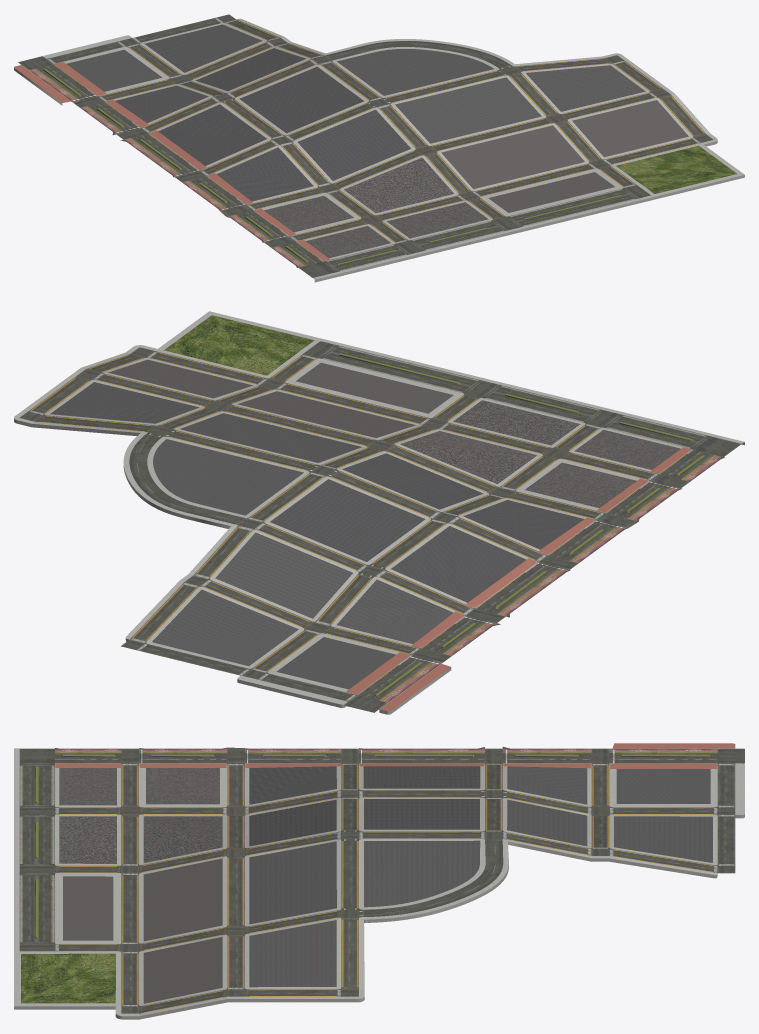
Rendered from New Roads.fbx.
The picture shows the model from 3 angles, top to bottom: view 1: azimuth 30°, elevation 25°; view 2: azimuth 150°, elevation 25°; view 3: azimuth 270°, elevation 25°; orthographic projection. The views are drawn at different scales.
Parts seen in each view (by area): view 1: polySurface28959, polySurface28964, polySurface29043, polySurface27143, polySurface27133, park; view 2: polySurface27133, polySurface28959, polySurface27143, polySurface29043, polySurface28964, park; view 3: polySurface29043, polySurface27133, polySurface28964, polySurface28959, polySurface27143, park.
Part boxes in pixels (left/top/right/bottom): polySurface28959: left=112, top=56, right=435, bottom=216; polySurface28964: left=429, top=89, right=717, bottom=231; polySurface29043: left=323, top=39, right=674, bottom=145; polySurface27143: left=227, top=152, right=522, bottom=282; polySurface27133: left=14, top=14, right=324, bottom=134; park: left=616, top=144, right=744, bottom=199; polySurface27133: left=121, top=525, right=496, bottom=714; polySurface28959: left=239, top=440, right=638, bottom=625; polySurface27143: left=378, top=378, right=744, bottom=521; polySurface29043: left=14, top=368, right=367, bottom=528; polySurface28964: left=77, top=339, right=485, bottom=447; park: left=158, top=311, right=322, bottom=375; polySurface29043: left=227, top=838, right=508, bottom=1002; polySurface27133: left=502, top=743, right=744, bottom=878; polySurface28964: left=14, top=856, right=245, bottom=1019; polySurface28959: left=227, top=747, right=509, bottom=856; polySurface27143: left=14, top=747, right=227, bottom=873; park: left=14, top=951, right=115, bottom=1009.
Bounding box in the file's own units: 51170 × 3301 × 57941.
12 materials, 12 textured.
